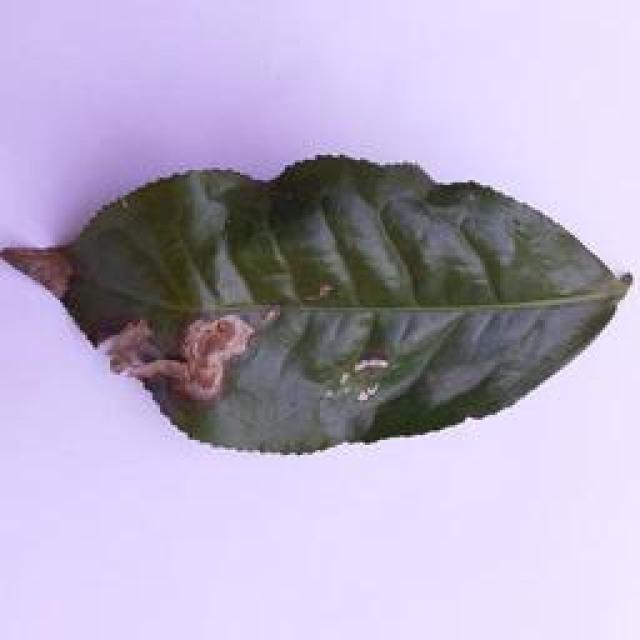Gray Blight: (0, 153, 636, 462)
